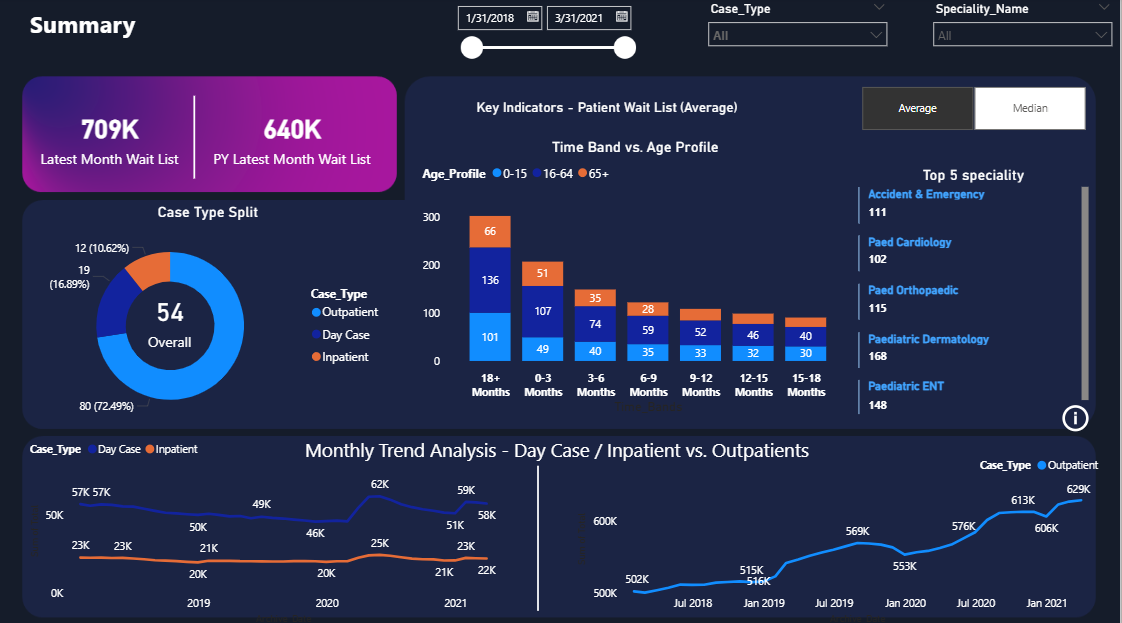

Layout of this report page (visuals, bound fields, positions):
{"tool":"powerbi","page":{"name":"Summary","canvas":[1280,720],"ordinal":0},"visuals":[{"type":"card","fields":{"Values":["All_Data.Latest Month Wait List"]},"box":[32,96,192,128],"z":0},{"type":"card","fields":{"Values":["All_Data.PY Latest Month Wait List"]},"box":[240,96,192,128],"z":1000},{"type":"slicer","fields":{"Values":["Calculation Method.Calc Method"]},"box":[958.8,96.2,305,63.2],"z":2000},{"type":"donutChart","title":"Case Type Split","fields":{"Category":["All_Data.Case_Type"],"Y":["All_Data.Avg/Med Wait List"]},"box":[31.6,234.9,416.2,261],"z":3000},{"type":"columnChart","title":"Time Band vs. Age Profile","fields":{"Y":["All_Data.Avg/Med Wait List"],"Category":["All_Data.Time_Bands"],"Series":["All_Data.Age_Profile"]},"box":[479.4,160.7,495.9,318.7],"z":4000},{"type":"multiRowCard","title":"Top 5 speciality","fields":{"Values":["All_Data.Speciality_Name","All_Data.Avg/Med Wait List"]},"box":[976,192,272,288],"z":5000},{"type":"card","fields":{"Values":["All_Data.No_Data_Left"]},"box":[108.5,526.1,403.9,164.8],"z":6000},{"type":"lineChart","fields":{"Category":["All_Data.Archive_Date"],"Y":["Sum(All_Data.Total)"],"Series":["All_Data.Case_Type"]},"box":[32,496,544,224],"z":7000},{"type":"card","fields":{"Values":["All_Data.No_Data_Right"]},"box":[748.7,534.4,399.7,138.7],"z":8000},{"type":"lineChart","fields":{"Category":["All_Data.Archive_Date"],"Y":["Sum(All_Data.Total)"],"Series":["All_Data.Case_Type"]},"box":[655.7,514.6,608.6,205.3],"z":9000},{"type":"slicer","fields":{"Values":["All_Data.Archive_Date"]},"box":[512,0,224,80],"z":10000},{"type":"slicer","fields":{"Values":["All_Data.Case_Type"]},"box":[800,0,224,64],"z":11000},{"type":"slicer","fields":{"Values":["All_Data.Speciality_Name"]},"box":[1056,0,224,64],"z":12000},{"type":"textbox","box":[31.6,6.9,223.9,48.1],"z":13000},{"type":"card","fields":{"Values":["All_Data.Avg/Med Wait List"]},"box":[155.2,320.1,81,96.2],"z":14000},{"type":"shape","box":[74.2,112.6,299.5,94.8],"z":15000},{"type":"textbox","box":[344.8,495.9,590.7,38.5],"z":16000},{"type":"shape","box":[575.9,534.5,79.8,165.3],"z":17000},{"type":"card","fields":{"Values":["All_Data.Dynamic Title"]},"box":[490.4,96.2,408,63.2],"z":18000},{"type":"actionButton","box":[1208.7,460.4,55.6,39.9],"z":19000}]}

Visuals, with their boxes in screenshot pixels (x1, y1, x2, y2), scaled from the page's 1280x720 canvas onto the 1122x623 screenshot:
card - All_Data.Latest Month Wait List: bbox=[28, 83, 196, 194]
card - All_Data.PY Latest Month Wait List: bbox=[210, 83, 379, 194]
slicer - Calculation Method.Calc Method: bbox=[840, 83, 1108, 138]
"Case Type Split" donutChart: bbox=[28, 203, 393, 429]
"Time Band vs. Age Profile" columnChart: bbox=[420, 139, 855, 415]
"Top 5 speciality" multiRowCard: bbox=[856, 166, 1094, 415]
card - All_Data.No_Data_Left: bbox=[95, 455, 449, 598]
lineChart - All_Data.Archive_Date x Sum(All_Data.Total): bbox=[28, 429, 505, 622]
card - All_Data.No_Data_Right: bbox=[656, 462, 1007, 582]
lineChart - All_Data.Archive_Date x Sum(All_Data.Total): bbox=[575, 445, 1108, 622]
slicer - All_Data.Archive_Date: bbox=[449, 0, 645, 69]
slicer - All_Data.Case_Type: bbox=[701, 0, 898, 55]
slicer - All_Data.Speciality_Name: bbox=[926, 0, 1121, 55]
textbox: bbox=[28, 6, 224, 48]
card - All_Data.Avg/Med Wait List: bbox=[136, 277, 207, 360]
shape: bbox=[65, 97, 328, 179]
textbox: bbox=[302, 429, 820, 462]
shape: bbox=[505, 462, 575, 606]
card - All_Data.Dynamic Title: bbox=[430, 83, 788, 138]
actionButton: bbox=[1060, 398, 1108, 433]
